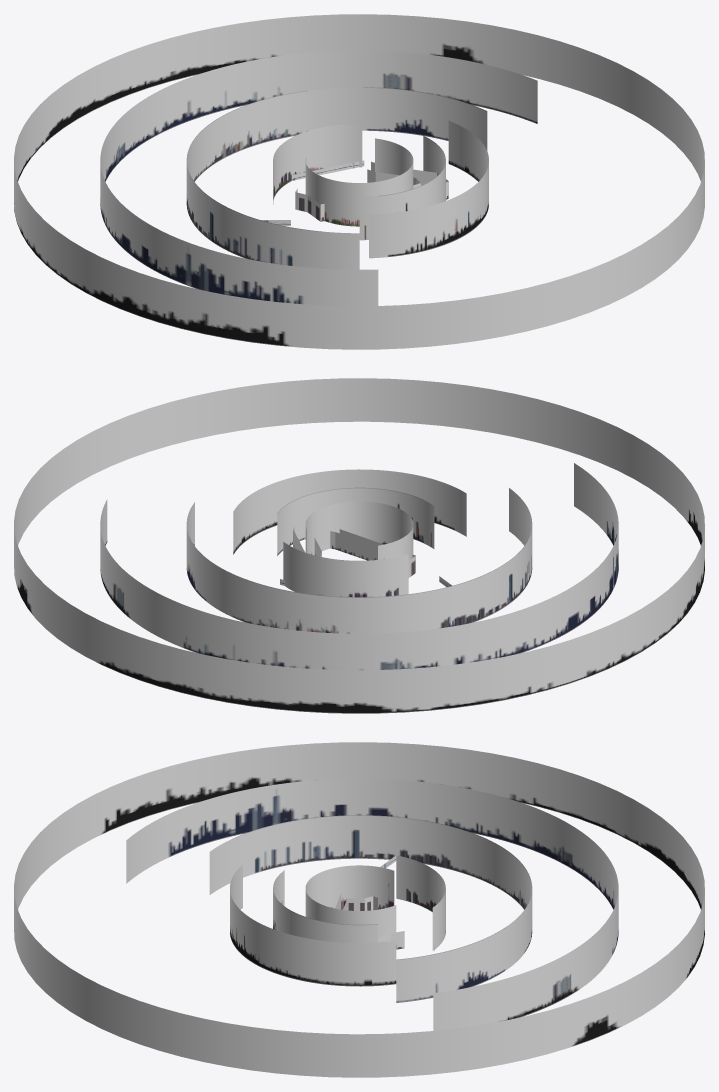
The model's file is cityscape.obj.
The picture shows the model from 3 angles, top to bottom: view 1: azimuth 30°, elevation 25°; view 2: azimuth 150°, elevation 25°; view 3: azimuth 270°, elevation 25°; orthographic projection.
Bounding box in the file's own units: 35994 × 2500 × 35994.
Materials: 1 (1 with a texture image).
